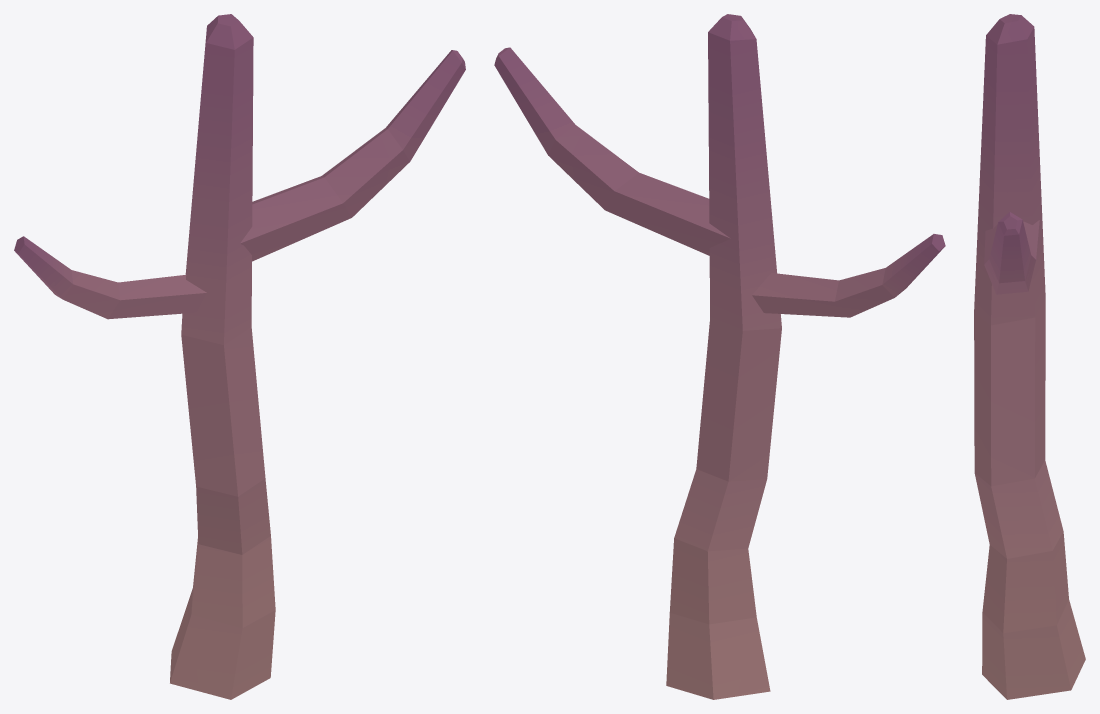
Rendered from no_leave_tree.glb.
3 views of the same model, side by side, from view 1: azimuth 30°, elevation 25°; view 2: azimuth 150°, elevation 25°; view 3: azimuth 270°, elevation 25° (orthographic).
Visible parts, largest first — view 1: tree; view 2: tree; view 3: tree.
Part boxes in pixels (x1,y1,x2,y2): tree: (14, 14, 465, 699); tree: (494, 14, 945, 699); tree: (974, 14, 1085, 699).
Size of the model in its own units: 2.92 by 4.17 by 0.6373.
1 material, 1 textured.
